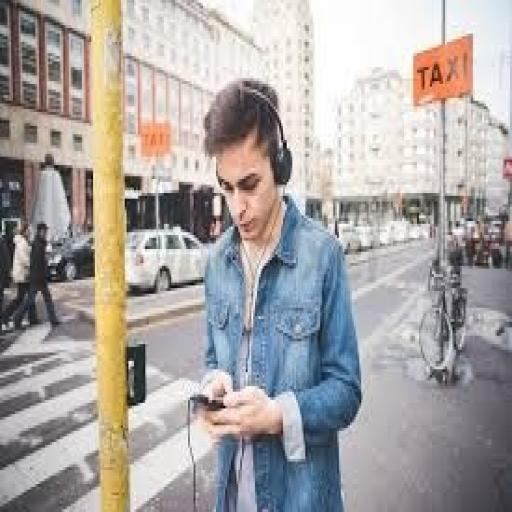listening_to_music: (195, 76, 365, 509)
